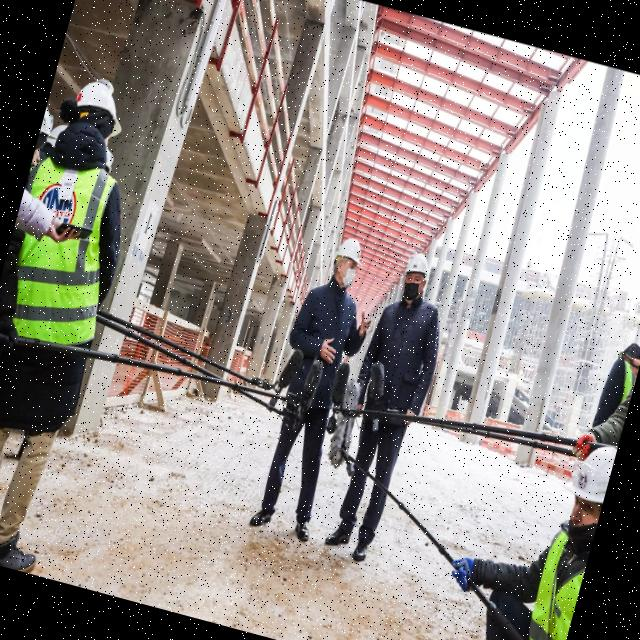Helmet: (67, 75, 133, 142), (567, 436, 619, 509), (38, 103, 65, 146), (335, 236, 368, 269), (403, 253, 434, 285)
Jacket: (1, 134, 137, 354), (507, 520, 595, 640)
NoJacket: (357, 290, 437, 414), (296, 275, 359, 387)
